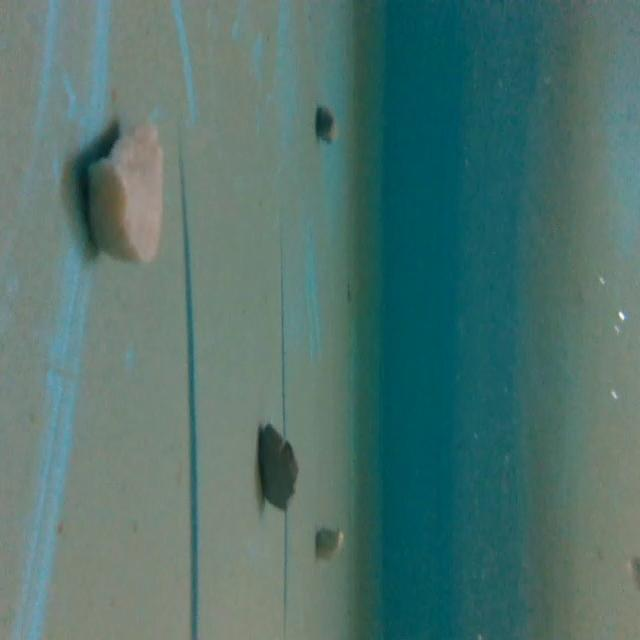rock: (84, 118, 171, 270), (252, 412, 302, 514), (314, 518, 346, 572), (314, 98, 340, 150)
